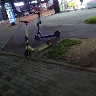beam: (31, 10, 62, 41)
gcooter: (18, 19, 54, 58)
